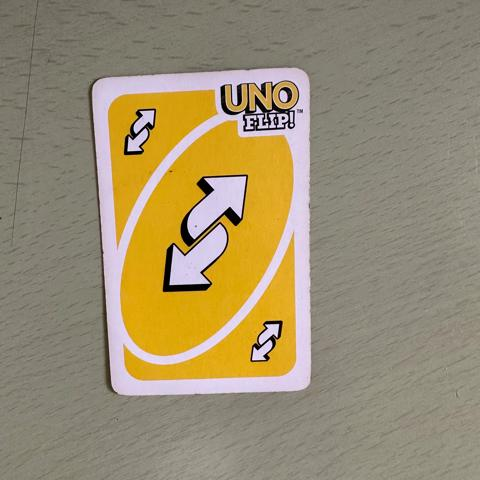lyellowrevers-20: (105, 90, 174, 170)
